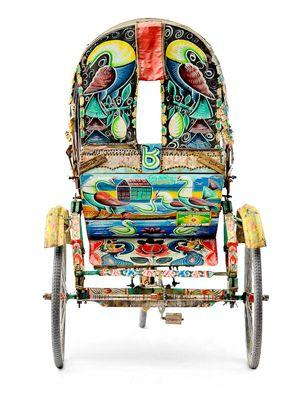Rickshaw: (44, 19, 267, 367)
